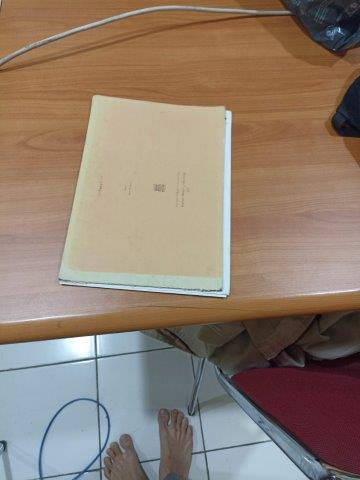kertas: (58, 95, 232, 297)
